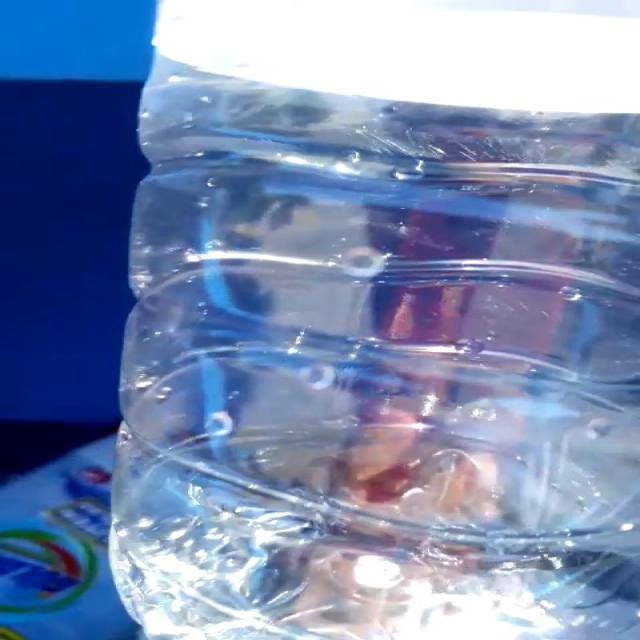bottles: (108, 0, 639, 639)
